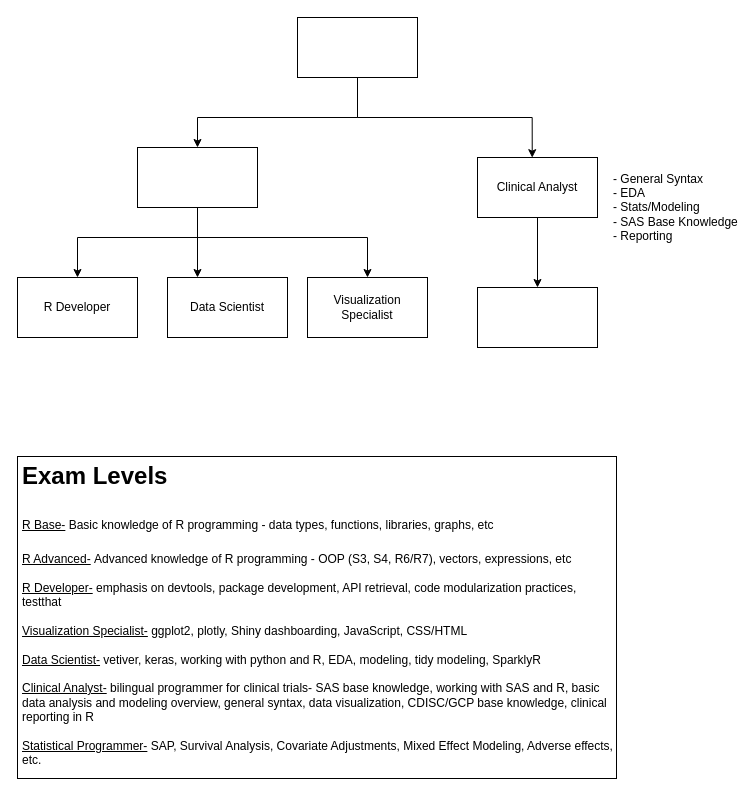
This 756x796 diagram has some shape labels left out. Here are the shapes that lost their labels. From the top down, the centre of each, then its label:
At point (357, 47): "R Base".
At point (197, 177): "R Advanced".
At point (537, 317): "Statistical Programmer".
